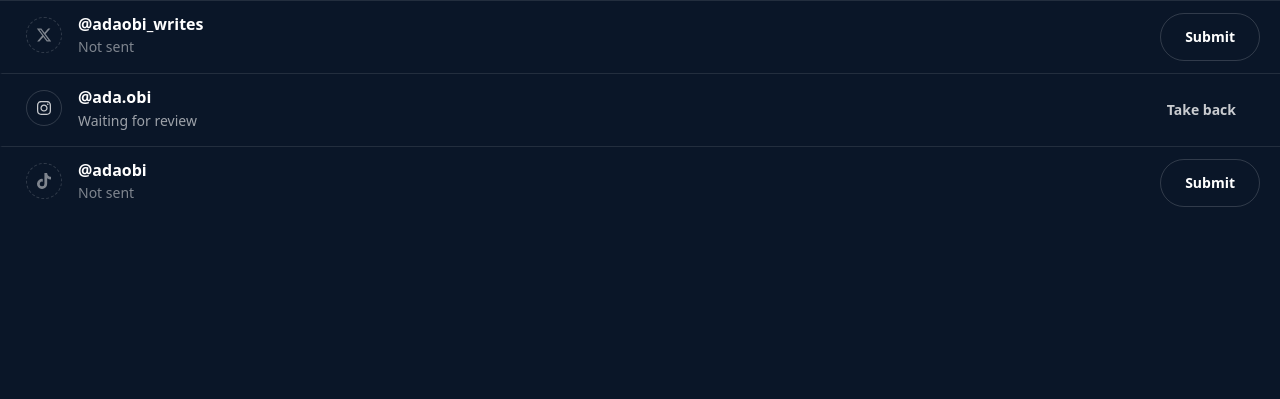
the week's rows › keeps one form open: opening another row closes the first
Click the button with aria-label "Submit your X post" at (1210,37), box [1160,13,1260,61]
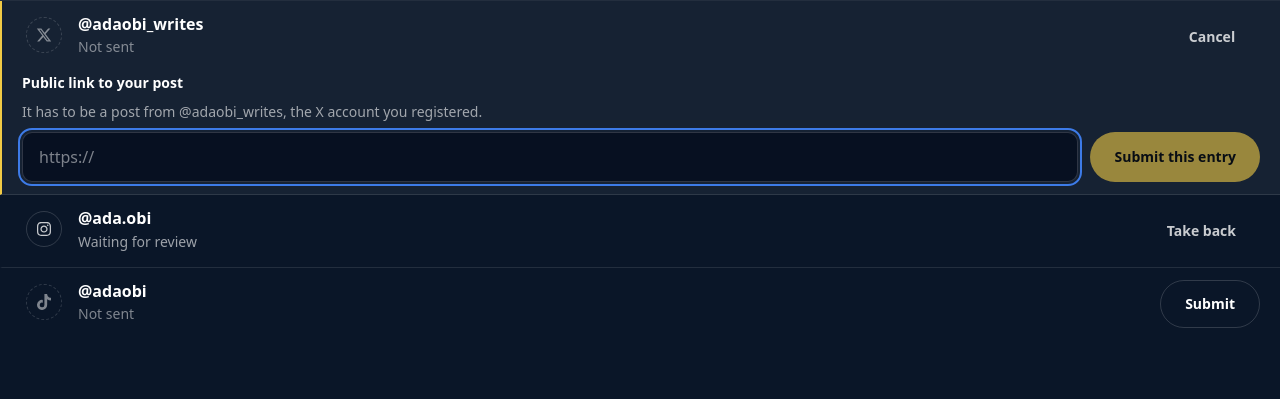
Check: the number of fields labelled "Public link to your post" is 1, box [22,132,1078,182]
Click the button with aria-label "Submit your TikTok post" at (1210,304), box [1160,280,1260,328]
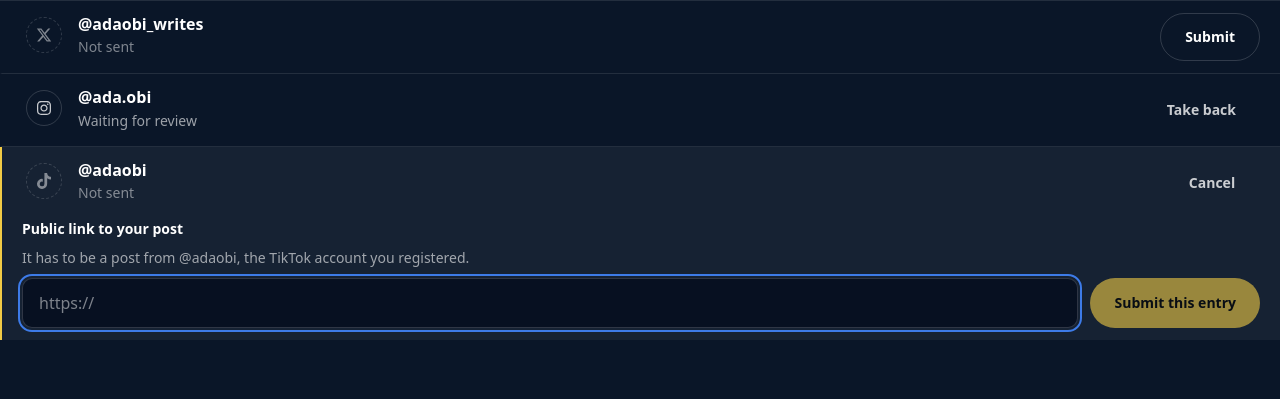
Check: the number of fields labelled "Public link to your post" is 1, box [22,278,1078,328]
Note: Take back is the same one-at-a-time: it closes the open form too.
Click the button with aria-label "Take back your Instagram post for week 2" at (1201,110), box [1143,86,1260,134]
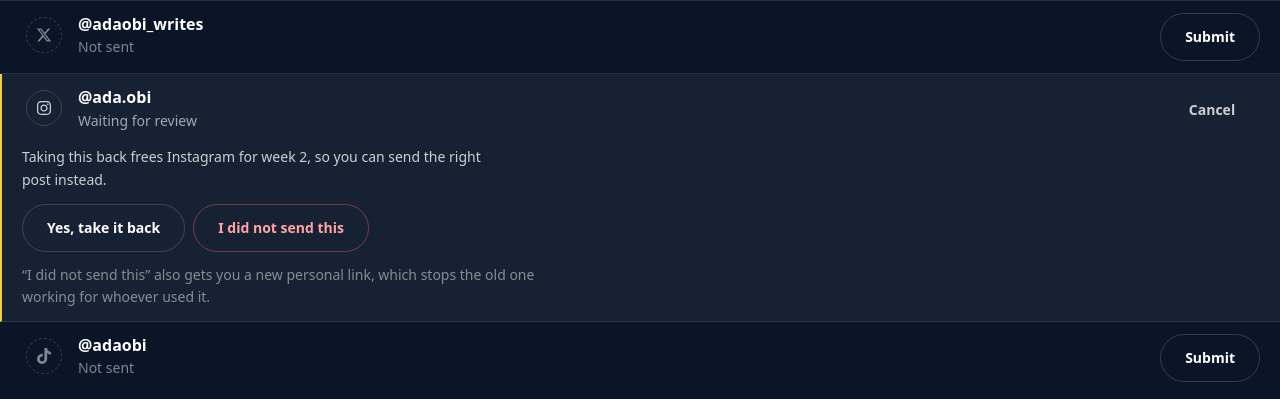
Check: no labels labelled "Public link to your post" are shown
Check: the text "Taking this back frees Instagram for week 2" is shown, box [22,146,542,192]
